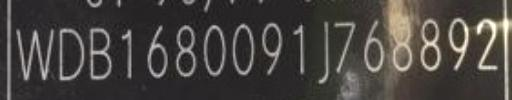letter: (12, 25, 56, 83), (84, 23, 116, 81), (53, 25, 87, 79), (140, 21, 170, 81), (360, 16, 390, 73), (472, 14, 500, 73), (444, 16, 472, 75), (169, 25, 199, 79), (256, 20, 284, 76), (312, 19, 334, 87), (230, 22, 256, 78), (200, 25, 228, 77), (286, 18, 310, 78), (334, 18, 358, 78), (418, 18, 442, 76), (390, 16, 414, 73), (114, 23, 138, 79)
